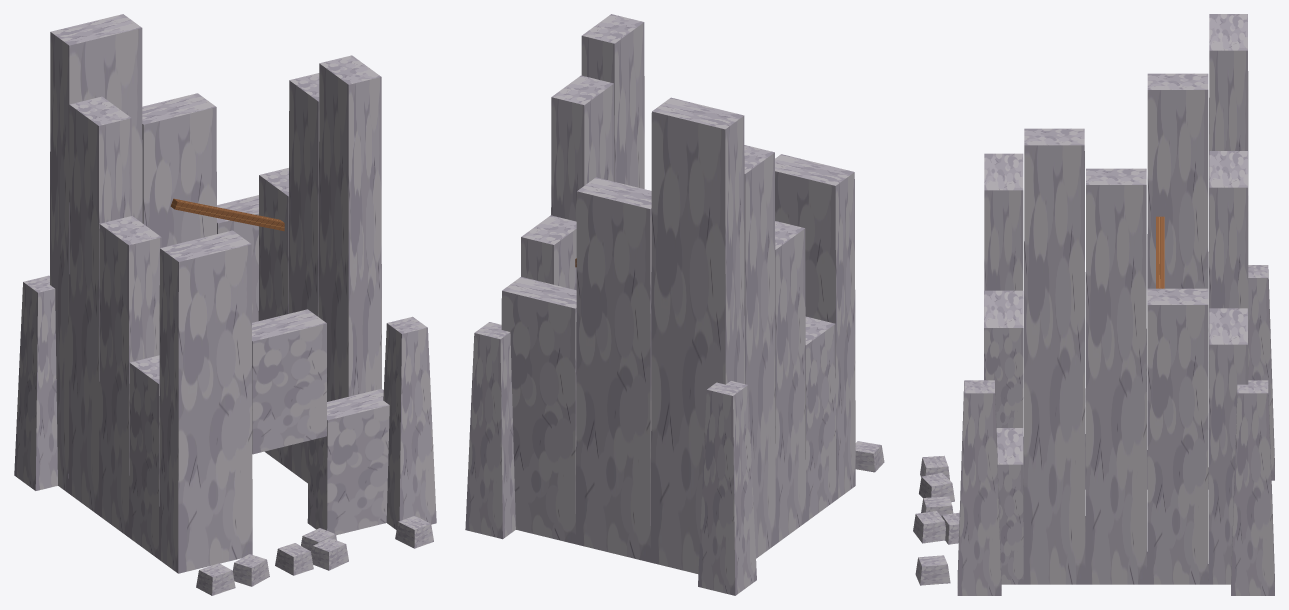
File: tower_ruin.glb
3 views of the same model, side by side, from view 1: azimuth 30°, elevation 25°; view 2: azimuth 150°, elevation 25°; view 3: azimuth 270°, elevation 25° (orthographic). The views are drawn at different scales.
Parts seen in each view (by area): view 1: tower_ruin; view 2: tower_ruin; view 3: tower_ruin.
Boxes of the visible parts, <box> form: tower_ruin: <box>14,14,436,595</box>; tower_ruin: <box>465,14,884,595</box>; tower_ruin: <box>913,14,1274,595</box>.
Size of the model in its own units: 7.2 by 11.5 by 8.21.
Materials: 1 (1 with a texture image).
